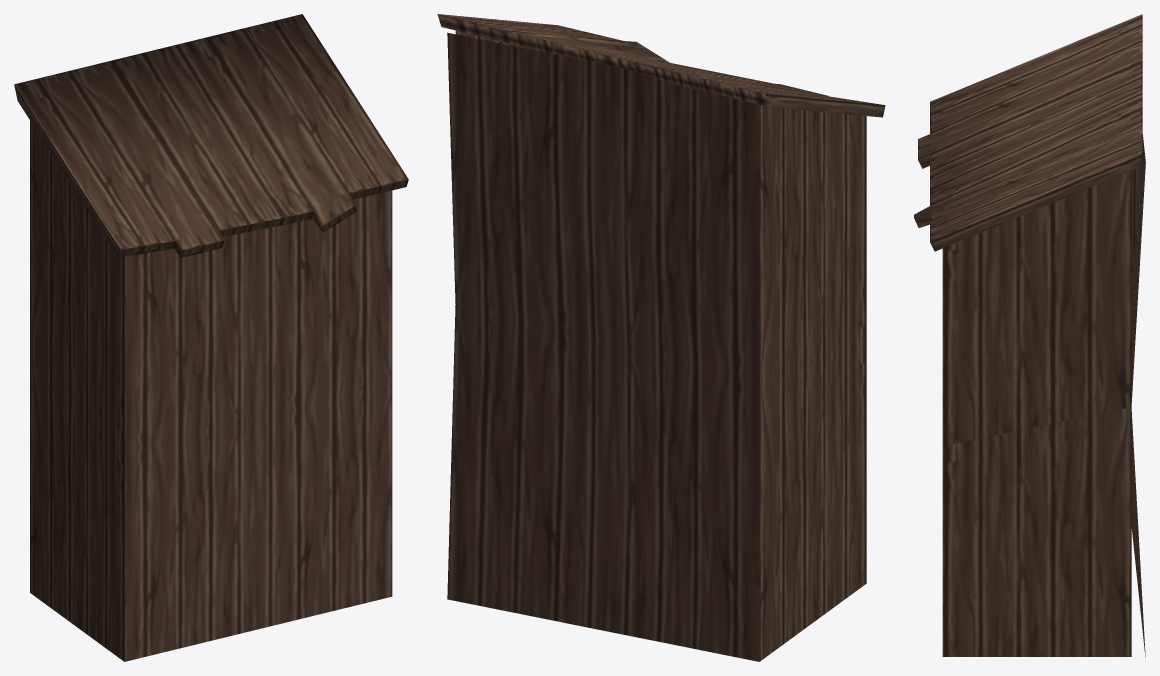
The model's file is shack_01.fbx.
3 renders of one model, left to right at view 1: azimuth 30°, elevation 25°; view 2: azimuth 150°, elevation 25°; view 3: azimuth 270°, elevation 25°, orthographic. The views are drawn at different scales.
Parts seen in each view (by area): view 1: shack_01; view 2: shack_01; view 3: shack_01.
Part boxes in pixels (x1,y1,x2,y2): shack_01: (14, 14, 408, 661); shack_01: (437, 14, 885, 661); shack_01: (914, 14, 1145, 661).
Size of the model in its own units: 179 by 303 by 124.
